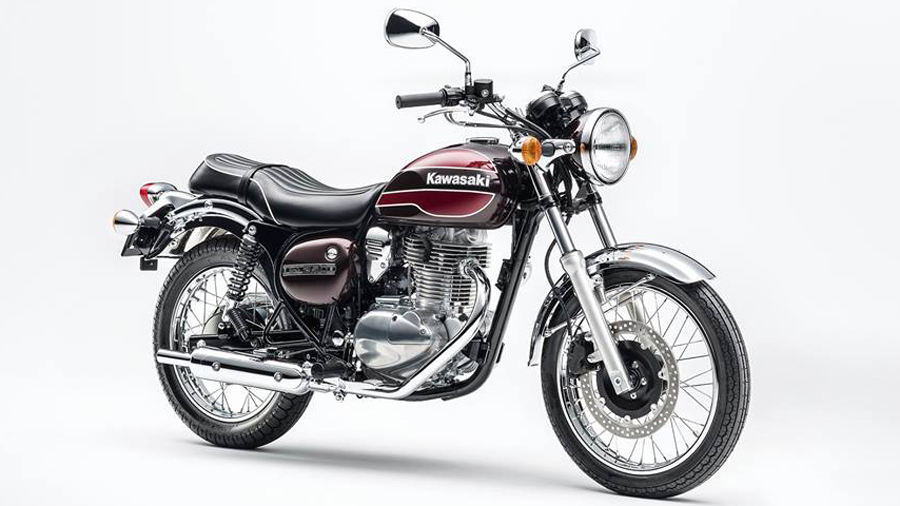motorcycle: (109, 82, 748, 495)
